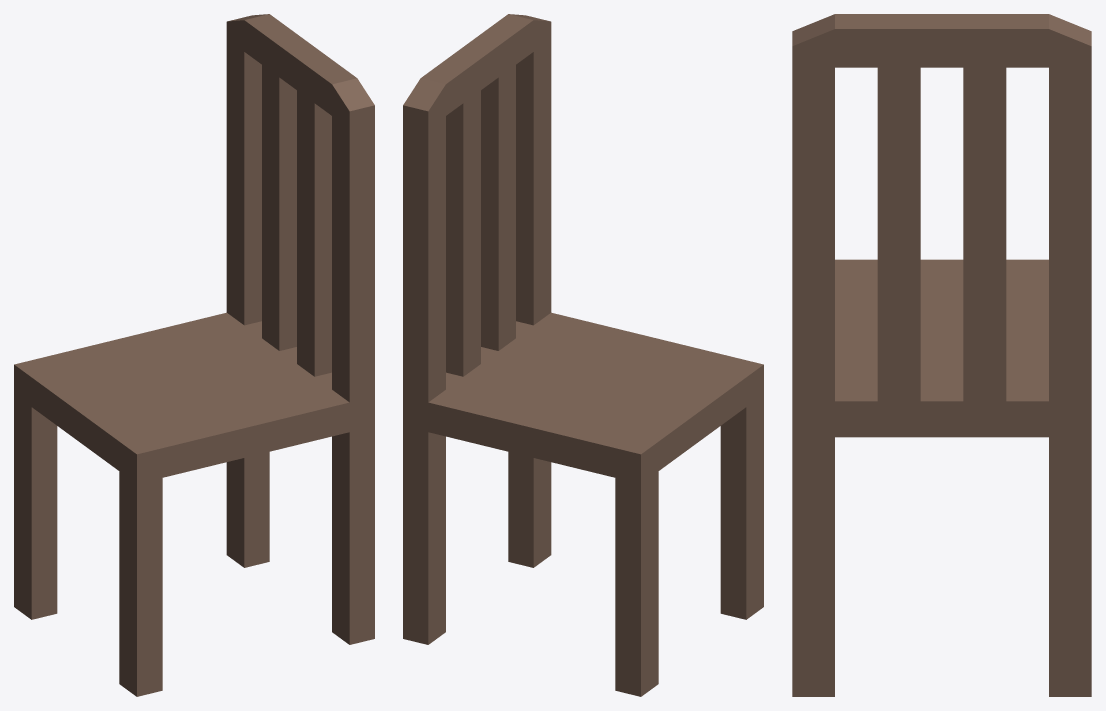
The model's file is chair.glb.
3 renders of one model, left to right at view 1: azimuth 30°, elevation 25°; view 2: azimuth 150°, elevation 25°; view 3: azimuth 270°, elevation 25°, orthographic. The views are drawn at different scales.
Parts seen in each view (by area): view 1: Cube.008; view 2: Cube.008; view 3: Cube.008.
Boxes of the visible parts, box(x1,y1,x2,y2) form: Cube.008: box(14, 14, 374, 696); Cube.008: box(403, 14, 763, 696); Cube.008: box(792, 14, 1091, 696).
Bounding box in the file's own units: 1.56 × 3.44 × 1.4.
1 material, 1 textured.
